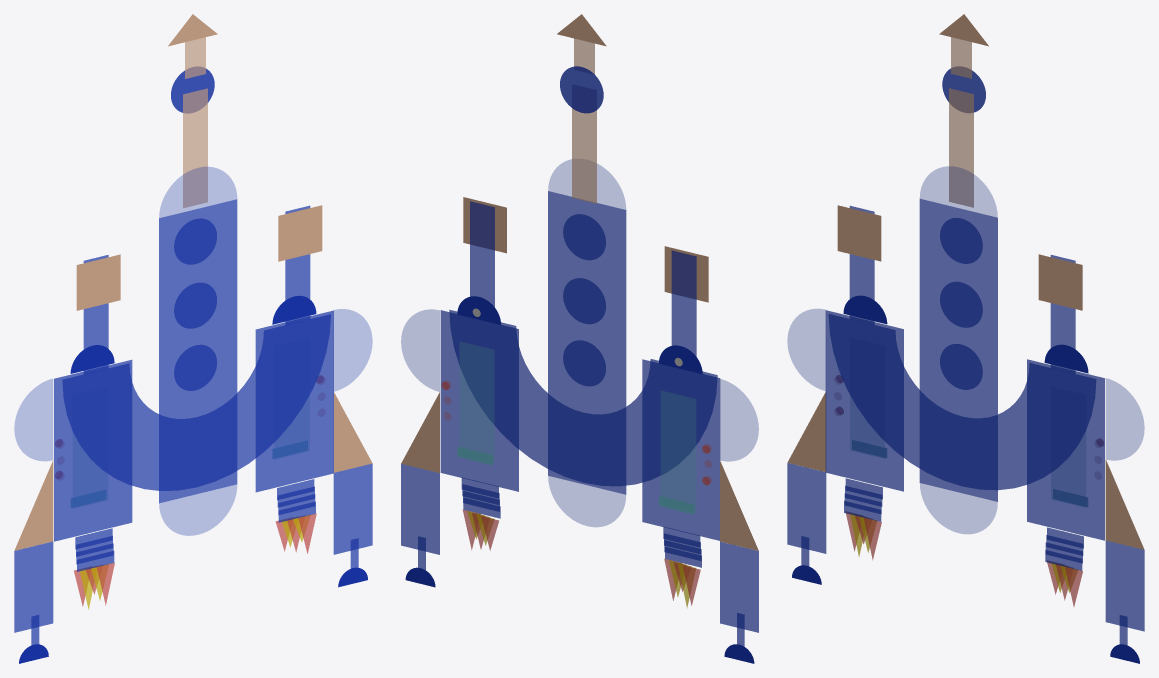
Rendered from fusee.gltf.
The picture shows the model from 3 angles, left to right: view 1: azimuth 30°, elevation 25°; view 2: azimuth 150°, elevation 25°; view 3: azimuth 330°, elevation 25°; orthographic projection.
Parts seen in each view (by area): view 1: Curve.094; view 2: Curve.094; view 3: Curve.094.
Boxes of the visible parts, x1,y1,x2,y2 form: Curve.094: [14, 14, 372, 663]; Curve.094: [401, 14, 758, 663]; Curve.094: [787, 14, 1144, 663].
Bounding box in the file's own units: 0.7471 × 1.21 × 0.0366.
